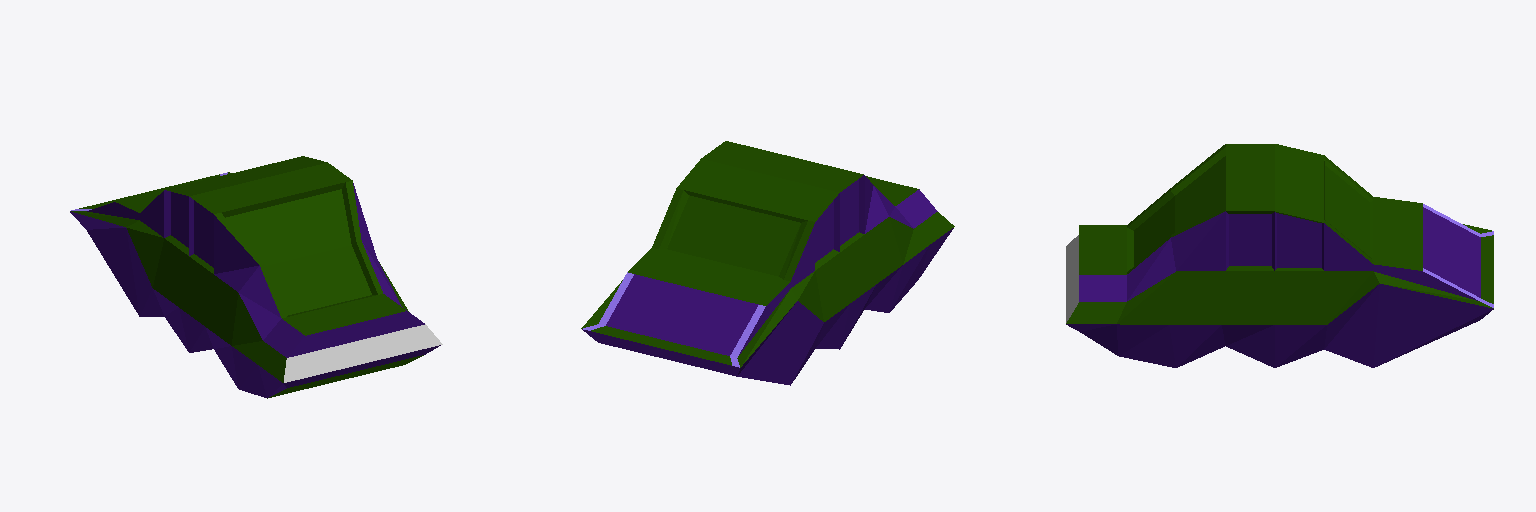
The model's file is Car.obj.
The picture shows the model from 3 angles: view 1: azimuth 30°, elevation 25°; view 2: azimuth 150°, elevation 25°; view 3: azimuth 270°, elevation 25°; orthographic projection.
Visible parts, largest first — view 1: pCube1; view 2: pCube1; view 3: pCube1.
Boxes of the visible parts, x1,y1,x2,y2 form: pCube1: [70, 156, 442, 398]; pCube1: [581, 141, 954, 385]; pCube1: [1066, 144, 1493, 367].
Size of the model in its own units: 22.97 by 21.59 by 53.43.